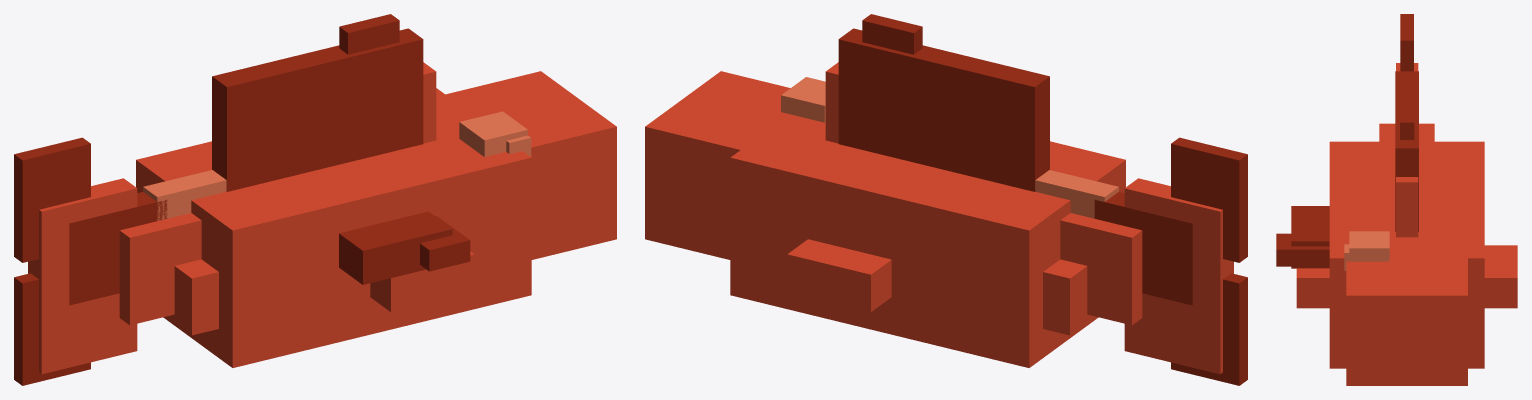
The model's file is fish_magma_loach.glb.
3 views of the same model, side by side, from view 1: azimuth 30°, elevation 25°; view 2: azimuth 150°, elevation 25°; view 3: azimuth 270°, elevation 25° (orthographic). The views are drawn at different scales.
Visible parts, largest first — view 1: FishArt_body, FishArt_dorsal, FishArt_tail, FishArt_pectoral, FishArt_eye, FishArt_specialty; view 2: FishArt_body, FishArt_dorsal, FishArt_tail, FishArt_specialty, FishArt_eye; view 3: FishArt_body, FishArt_pectoral, FishArt_dorsal, FishArt_eye, FishArt_tail.
Part boxes in pixels (box(x1,y1,x2,y2)): FishArt_body: box(28, 62, 616, 374); FishArt_dorsal: box(212, 14, 423, 191); FishArt_tail: box(14, 137, 167, 385); FishArt_pectoral: box(339, 211, 470, 284); FishArt_eye: box(459, 111, 531, 156); FishArt_specialty: box(143, 170, 226, 220); FishArt_body: box(645, 62, 1233, 374); FishArt_dorsal: box(838, 14, 1049, 191); FishArt_tail: box(1094, 137, 1247, 385); FishArt_specialty: box(1035, 170, 1118, 218); FishArt_eye: box(781, 77, 825, 122); FishArt_body: box(1296, 63, 1517, 385); FishArt_pectoral: box(1276, 206, 1329, 268); FishArt_dorsal: box(1395, 71, 1418, 231); FishArt_eye: box(1344, 231, 1389, 270); FishArt_tail: box(1400, 14, 1413, 71).
Size of the model in its own units: 0.3091 by 0.1442 by 0.1439.
